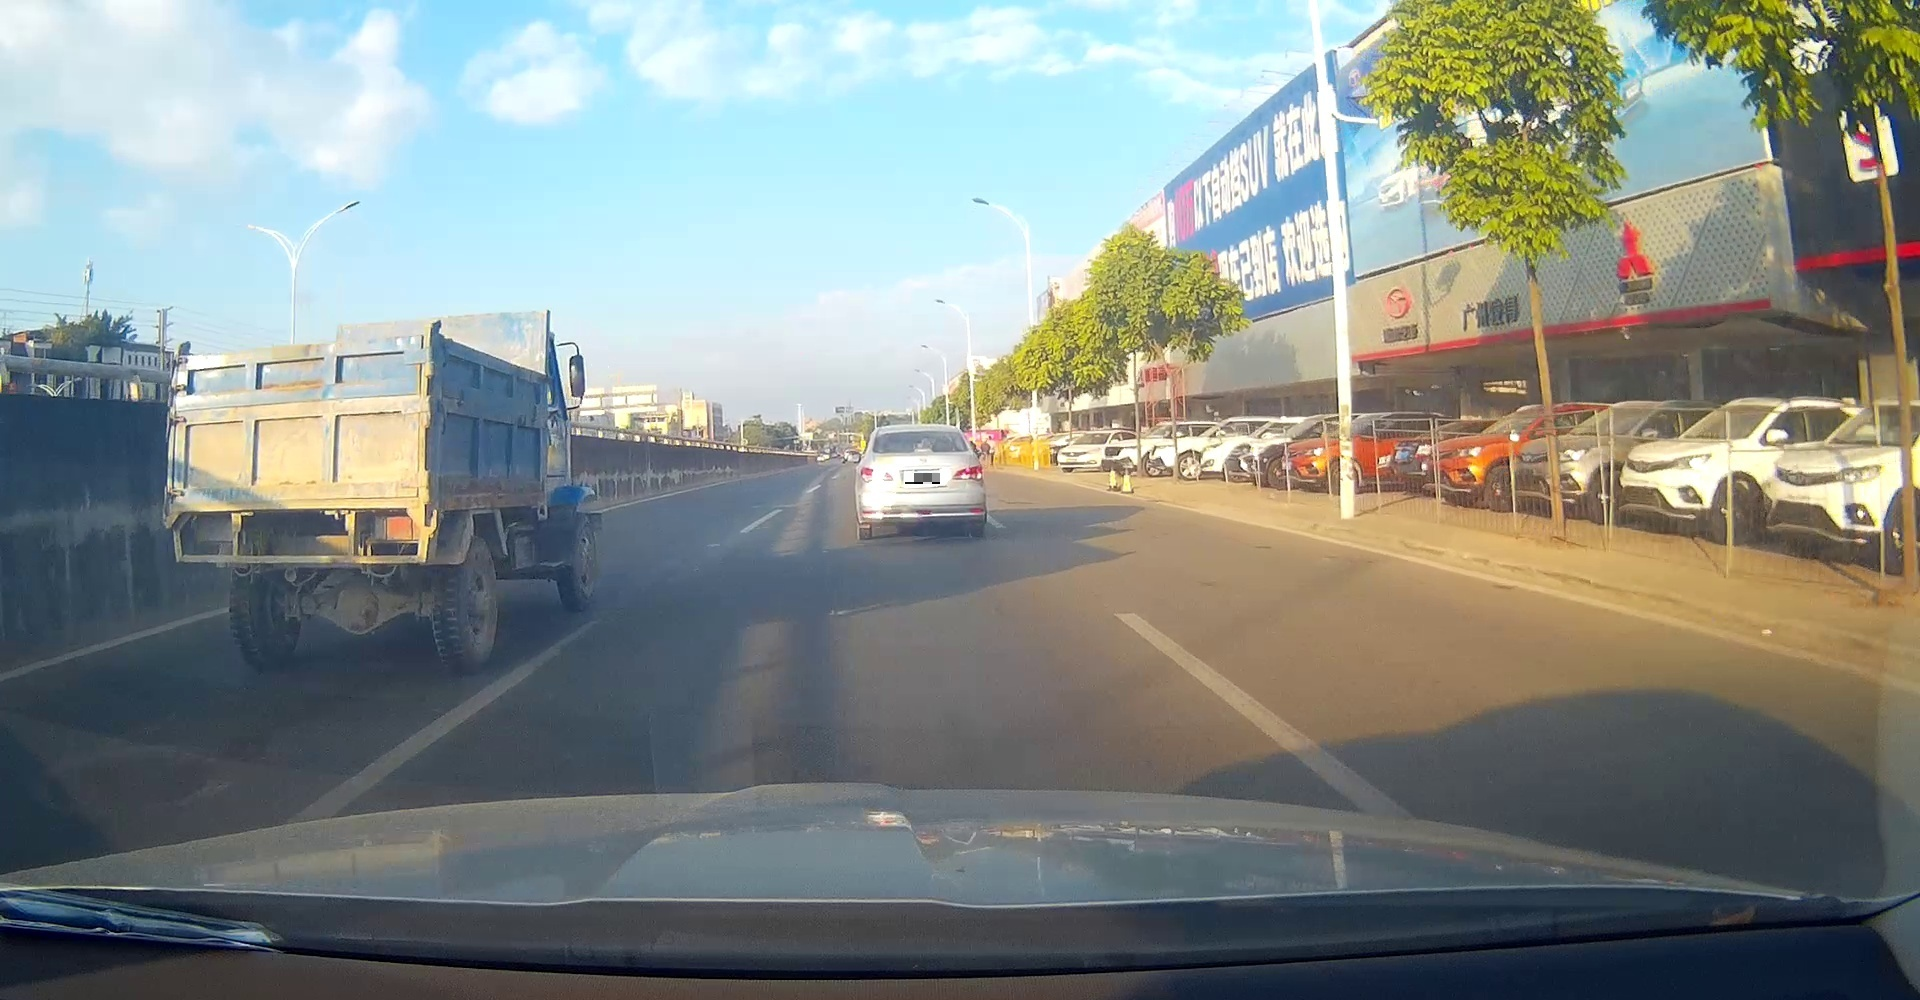L_light: (193, 515, 235, 542), (861, 466, 894, 482)
R_light: (370, 514, 418, 542), (952, 463, 983, 480)
T_light: (262, 365, 315, 387), (913, 447, 935, 453)
day-no: (163, 320, 434, 668), (860, 424, 984, 539)
plate_1: (905, 473, 940, 484)
